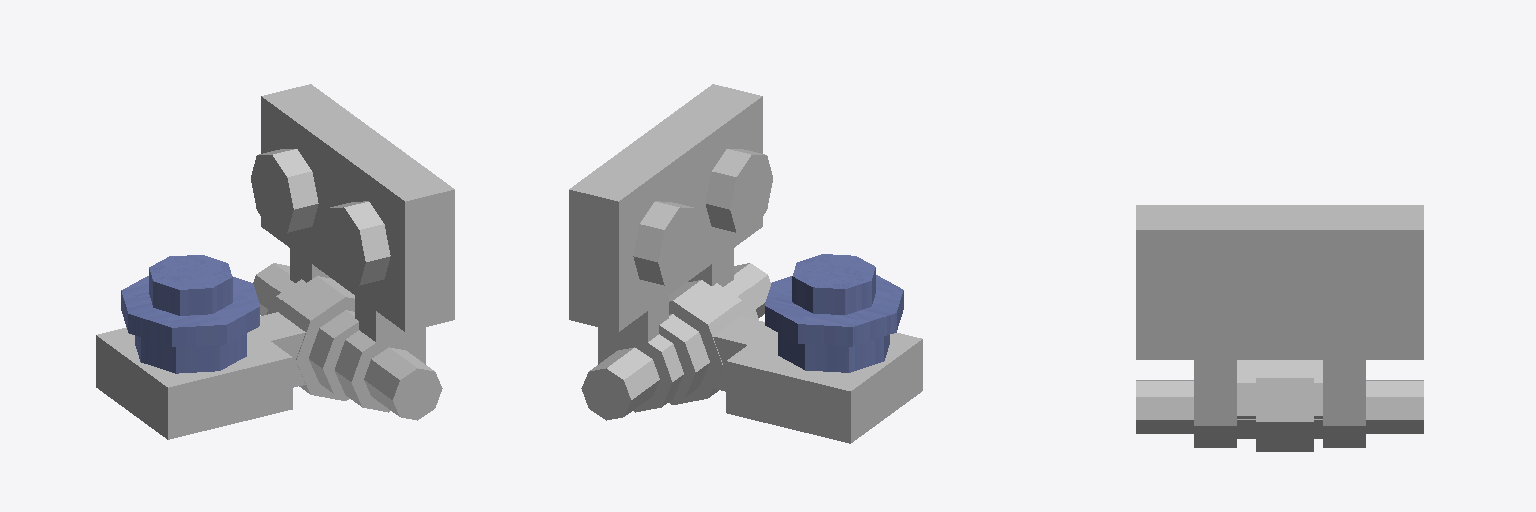
3 views of the same model, side by side, from view 1: azimuth 30°, elevation 25°; view 2: azimuth 150°, elevation 25°; view 3: azimuth 270°, elevation 25° (orthographic).
Visible parts, largest first — view 1: Mesh_0054_Mesh_0054Mesh, Mesh_0053_Mesh_0053Mesh, Mesh_0151_Mesh_0151Mesh; view 2: Mesh_0054_Mesh_0054Mesh, Mesh_0053_Mesh_0053Mesh, Mesh_0151_Mesh_0151Mesh; view 3: Mesh_0054_Mesh_0054Mesh, Mesh_0053_Mesh_0053Mesh.
Part boxes in pixels (x1,y1,x2,y2): Mesh_0054_Mesh_0054Mesh: (251, 84, 454, 420); Mesh_0053_Mesh_0053Mesh: (96, 276, 358, 439); Mesh_0151_Mesh_0151Mesh: (121, 255, 259, 373); Mesh_0054_Mesh_0054Mesh: (569, 84, 772, 420); Mesh_0053_Mesh_0053Mesh: (659, 280, 922, 443); Mesh_0151_Mesh_0151Mesh: (765, 254, 903, 372); Mesh_0054_Mesh_0054Mesh: (1136, 205, 1423, 447); Mesh_0053_Mesh_0053Mesh: (1237, 360, 1322, 451).
Bounding box in the file's own units: 0.1564 × 0.182 × 0.1524.
Materials: 3 (2 with a texture image).